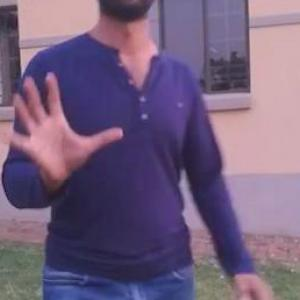follow_hand: (0, 66, 128, 195)
